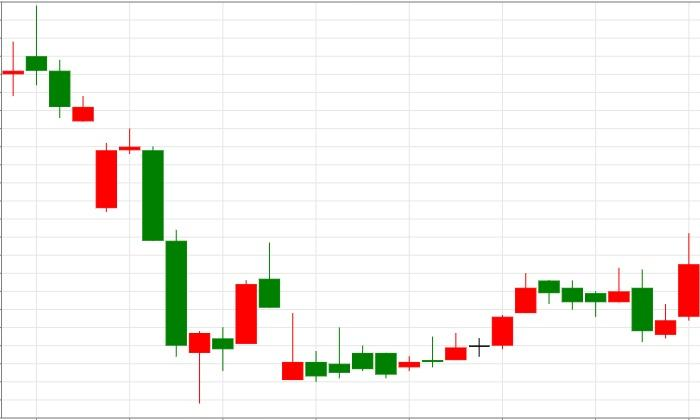hammer_rise: (25, 5, 211, 404)
